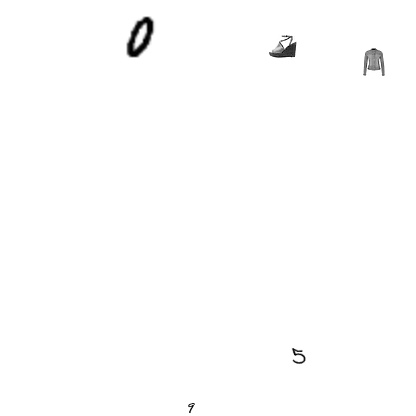0: (111, 9, 167, 65)
5: (287, 345, 309, 367)
9: (184, 400, 198, 414)
Coat: (360, 48, 388, 76)
Sandal: (269, 32, 297, 60)
